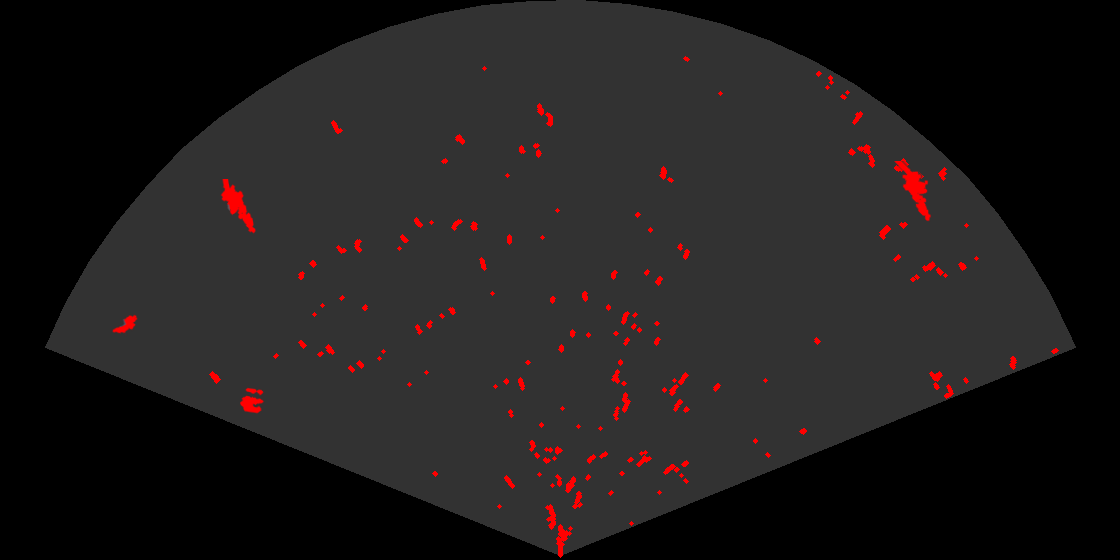AUV: (111, 313, 139, 337)
ball: (239, 386, 265, 415)
frogman: (893, 161, 933, 223), (219, 179, 257, 236)
